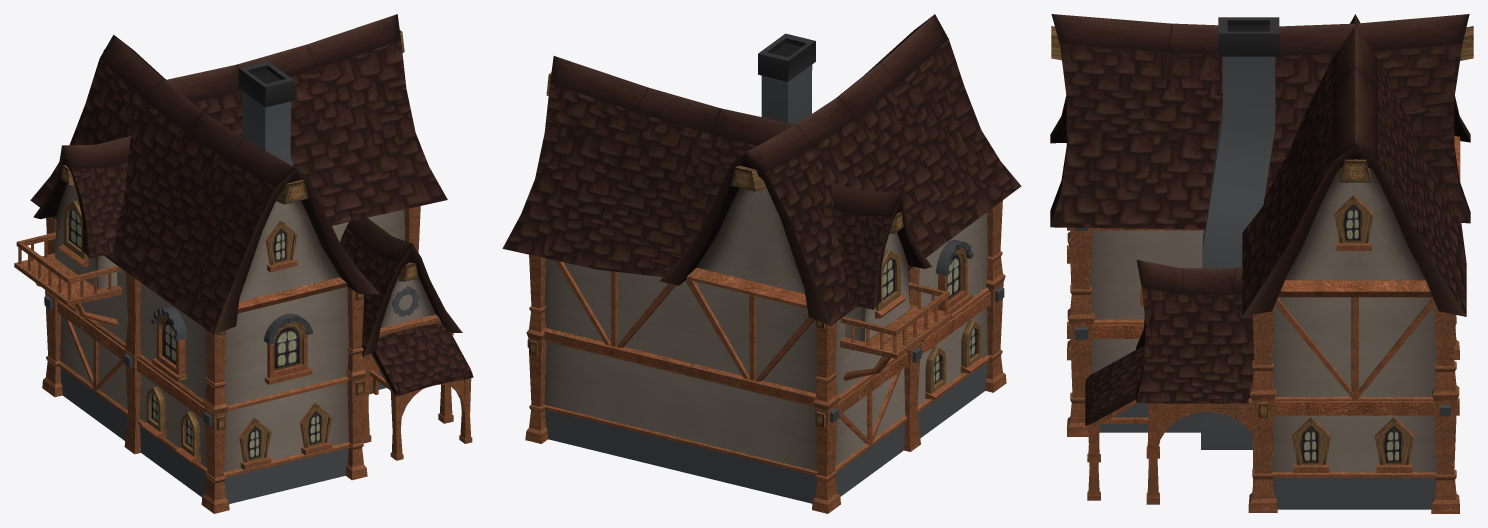
File: fanasty_mod_village_building08.fbx
The picture shows the model from 3 angles, left to right: view 1: azimuth 30°, elevation 25°; view 2: azimuth 150°, elevation 25°; view 3: azimuth 270°, elevation 25°; orthographic projection. The views are drawn at different scales.
Parts seen in each view (by area): view 1: village_building_08; view 2: village_building_08; view 3: village_building_08.
Part boxes in pixels (x1,y1,x2,y2): village_building_08: [14, 14, 473, 513]; village_building_08: [502, 14, 1021, 513]; village_building_08: [1050, 14, 1473, 513].
Bounding box in the file's own units: 14.05 × 13.12 × 12.59.
